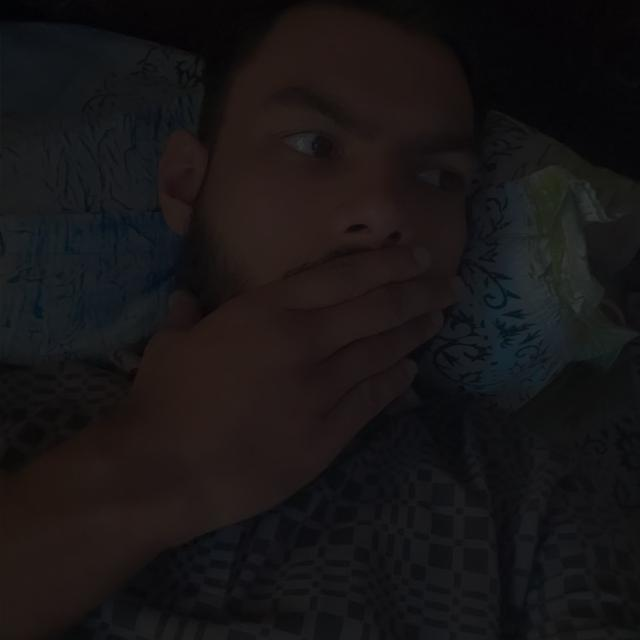Surprised: (133, 27, 512, 388)
